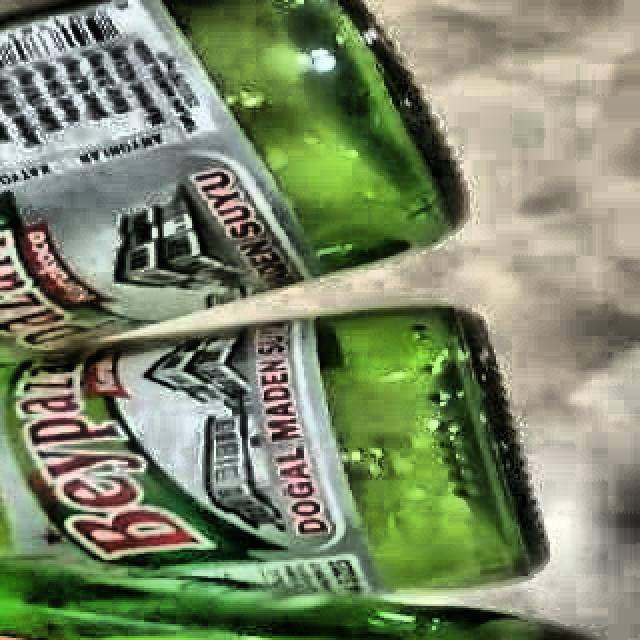glass: (0, 308, 585, 640)
